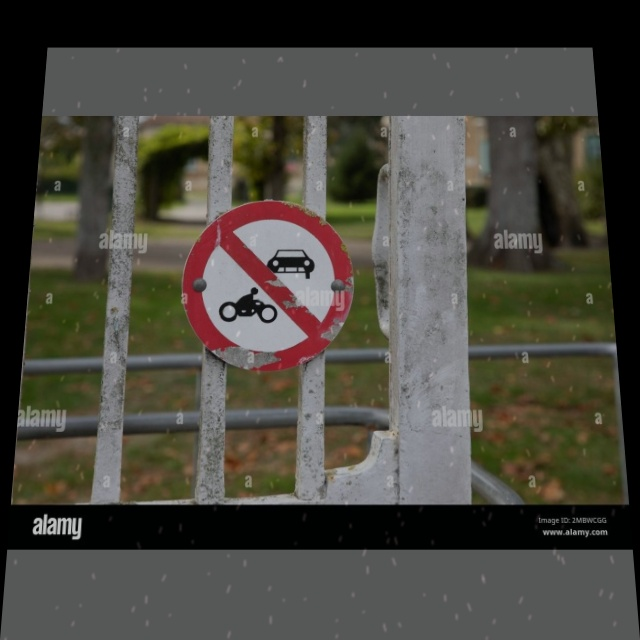All_Motor_Vehicles_Prohibited: (177, 203, 350, 374)
